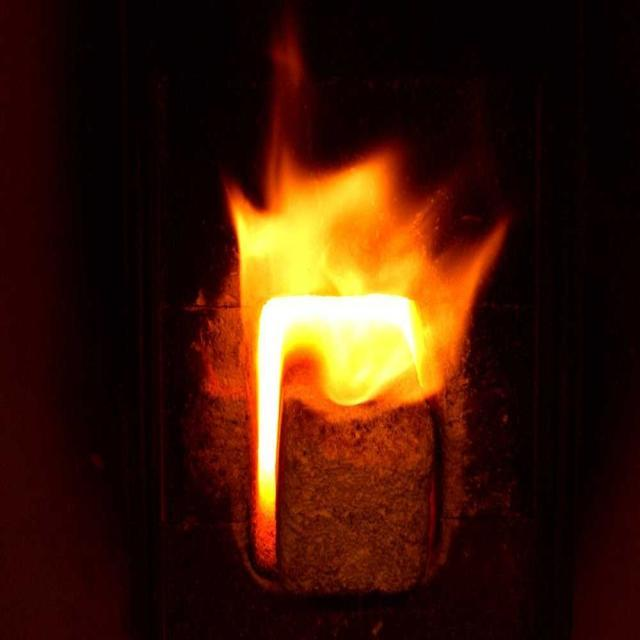Fire: (224, 160, 478, 393)
